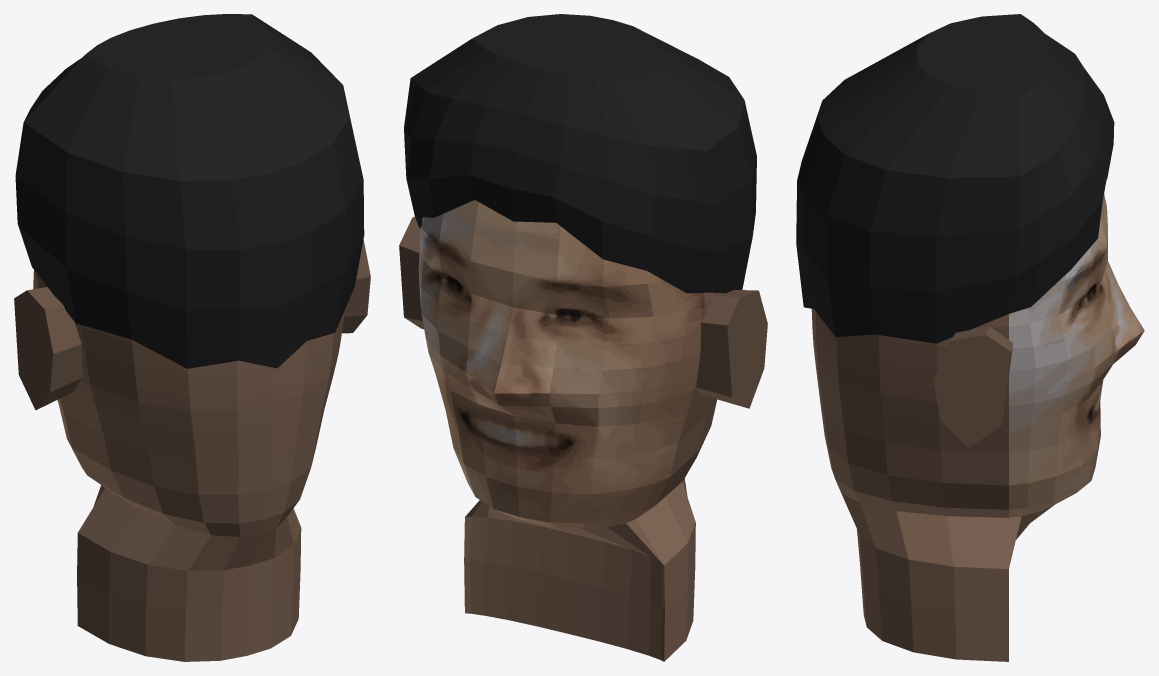
Rendered from blender-scratch-head.glb.
3 renders of one model, left to right at view 1: azimuth 30°, elevation 25°; view 2: azimuth 150°, elevation 25°; view 3: azimuth 270°, elevation 25°, orthographic. The views are drawn at different scales.
Visible parts, largest first — view 1: LB_Hair, LB_Head, LB_Ears; view 2: LB_Head, LB_Hair, LB_Ears; view 3: LB_Hair, LB_Head, LB_Ears.
Boxes of the visible parts, bbox=[...] form: LB_Hair: bbox=[15, 14, 364, 368]; LB_Head: bbox=[33, 270, 344, 661]; LB_Ears: bbox=[14, 240, 370, 410]; LB_Head: bbox=[418, 200, 718, 661]; LB_Hair: bbox=[404, 14, 756, 293]; LB_Ears: bbox=[399, 216, 767, 408]; LB_Hair: bbox=[796, 14, 1114, 343]; LB_Head: bbox=[811, 194, 1144, 661]; LB_Ears: bbox=[933, 326, 1012, 447].
Bounding box in the file's own units: 0.784 × 1.33 × 0.7492.
1 material, 1 textured.
